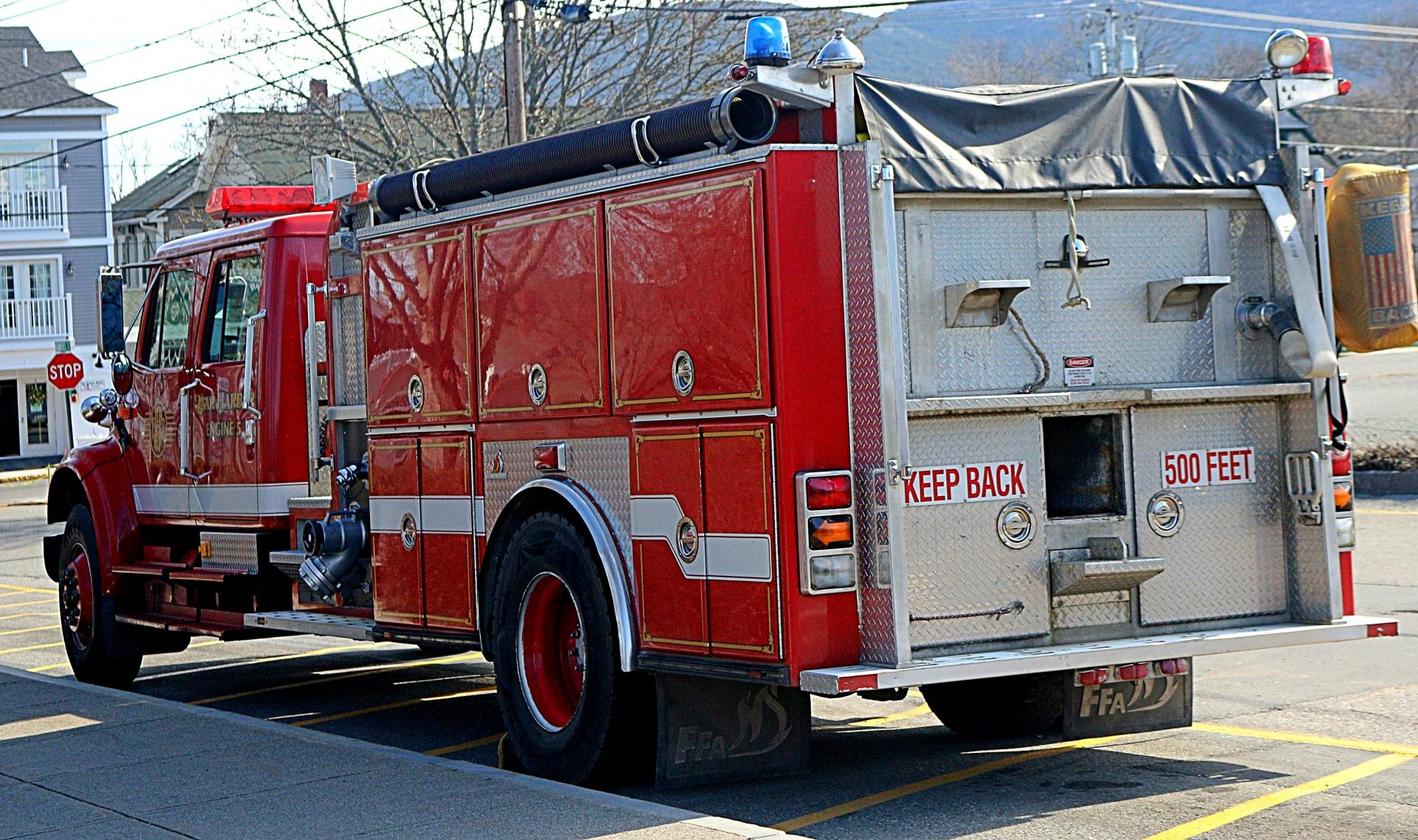Fire-engine: (41, 16, 1405, 793)
